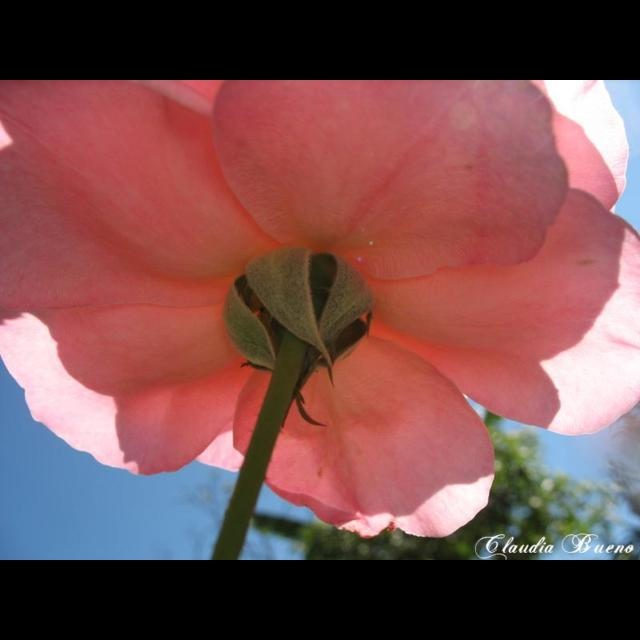Flower: (74, 80, 578, 512)
